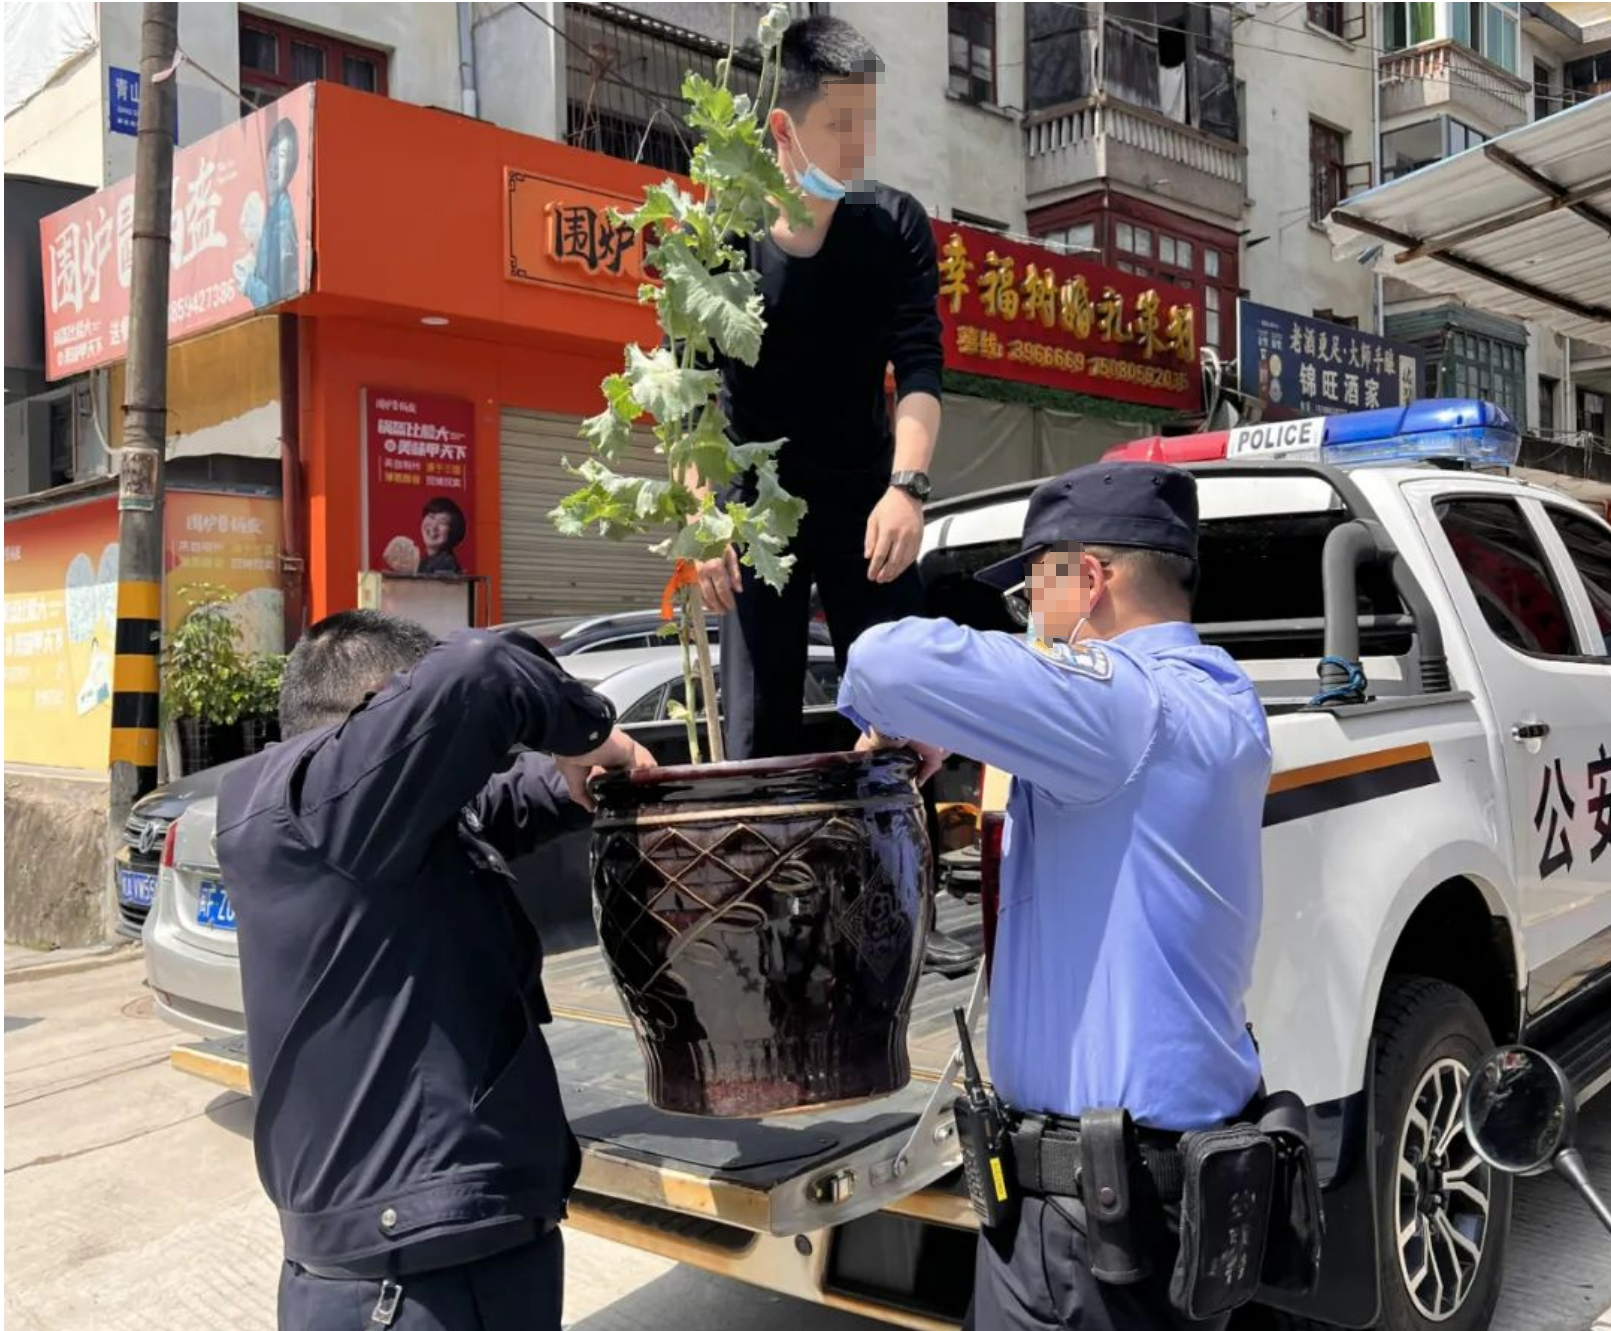Poppy: (534, 49, 819, 771)
